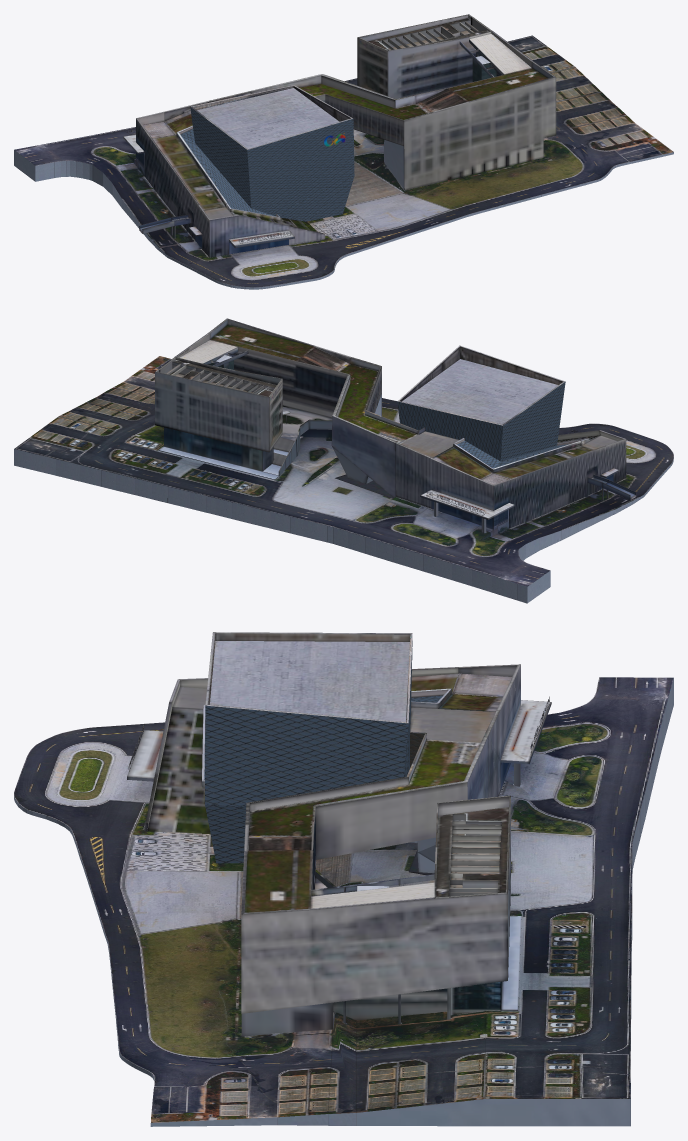
File: nanning_nanA.glb
3 views of the same model, one above another, from view 1: azimuth 30°, elevation 25°; view 2: azimuth 150°, elevation 25°; view 3: azimuth 270°, elevation 25° (orthographic). The views are drawn at different scales.
Parts seen in each view (by area): view 1: 南A中心\南A中心; view 2: 南A中心\南A中心; view 3: 南A中心\南A中心.
Part boxes in pixels (box(x1,y1,x2,y2)): 南A中心\南A中心: box(14, 14, 673, 289); 南A中心\南A中心: box(14, 318, 673, 603); 南A中心\南A中心: box(14, 632, 673, 1126).
Bounding box in the file's own units: 203 × 37.5 × 134.
19 materials, 19 textured.
